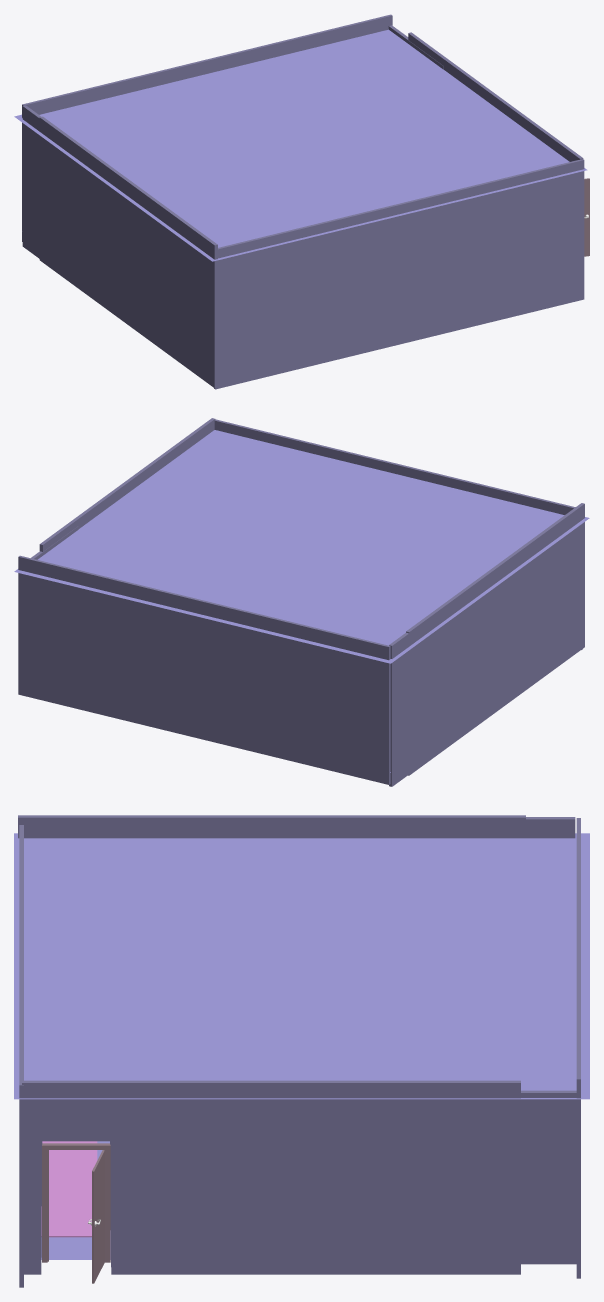
File: room4.glb
The picture shows the model from 3 angles, top to bottom: view 1: azimuth 30°, elevation 25°; view 2: azimuth 150°, elevation 25°; view 3: azimuth 270°, elevation 25°; orthographic projection. The views are drawn at different scales.
Visible parts, largest first — view 1: Plane.001, Wall2.002, Wall2.003, Wall2.001, Wall2.004, Wall4.001; view 2: Plane.001, Wall2.001, Wall2.003, Wall2.004, Wall2.002, Wall4.001; view 3: Plane.001, Wall4.001, Wall2.003, Wall2.005, Cube.432, Wall2.004, Wall2.002, Wall2.001, DoorFrame.001, Door.001, Plane.
Boxes of the visible parts, x1,y1,x2,y2 form: Plane.001: [14, 29, 587, 261]; Wall2.002: [214, 159, 584, 389]; Wall2.003: [39, 116, 217, 388]; Wall2.001: [22, 14, 392, 241]; Wall2.004: [22, 105, 75, 267]; Wall4.001: [408, 32, 583, 161]; Plane.001: [14, 430, 589, 663]; Wall2.001: [18, 555, 390, 784]; Wall2.003: [406, 503, 584, 775]; Wall2.004: [389, 608, 445, 786]; Wall2.002: [214, 419, 582, 649]; Wall4.001: [39, 418, 215, 551]; Plane.001: [14, 833, 589, 1099]; Wall4.001: [22, 1080, 520, 1274]; Wall2.003: [18, 815, 525, 838]; Wall2.005: [521, 1090, 576, 1264]; Cube.432: [41, 1141, 97, 1237]; Wall2.004: [420, 817, 575, 838]; Wall2.002: [19, 825, 23, 1287]; Wall2.001: [576, 818, 580, 1278]; DoorFrame.001: [42, 1143, 110, 1262]; Door.001: [92, 1150, 104, 1283]; Plane: [41, 1141, 110, 1259].
Size of the model in its own units: 11.32 by 3.87 by 9.61.
